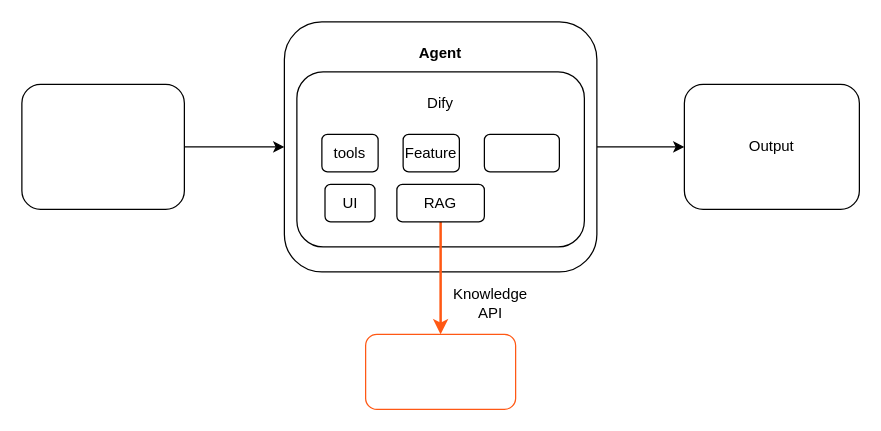
Image size: 881x431. Some labels were removed from this diagram. Here are the shapes that lost their labels. From the top down, the box of each, then its label:
(21, 83, 184, 209): User Input
(483, 133, 559, 172): LLM
(364, 333, 516, 409): RagFlow
